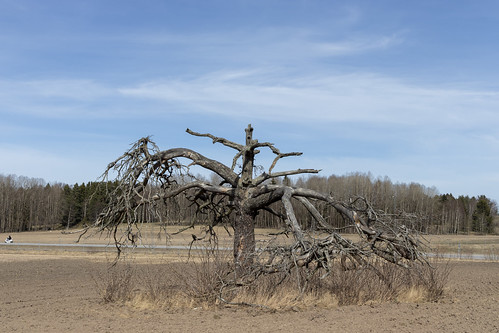sky: (1, 1, 499, 176)
tree: (121, 135, 449, 304)
vegetation: (3, 176, 492, 241)
